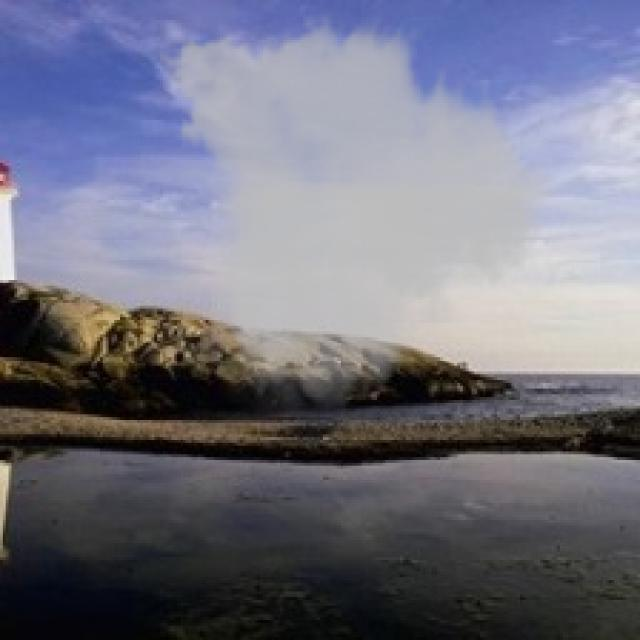Smoke: (148, 9, 566, 418)
